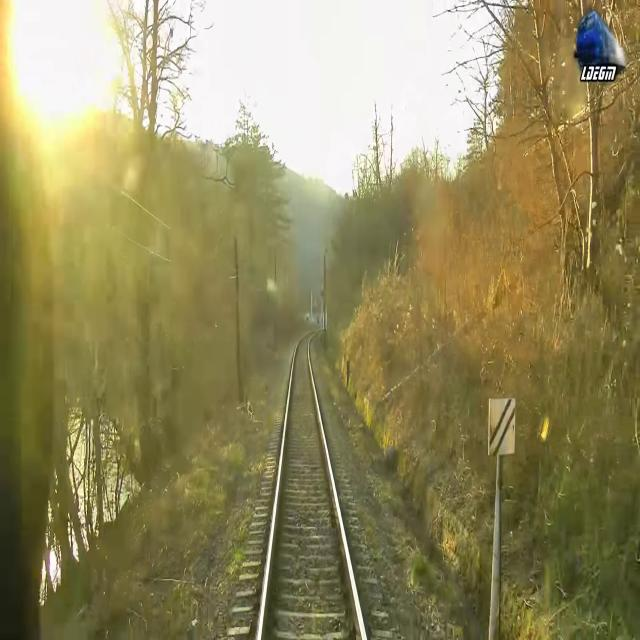rail-track: (262, 335, 362, 639)
